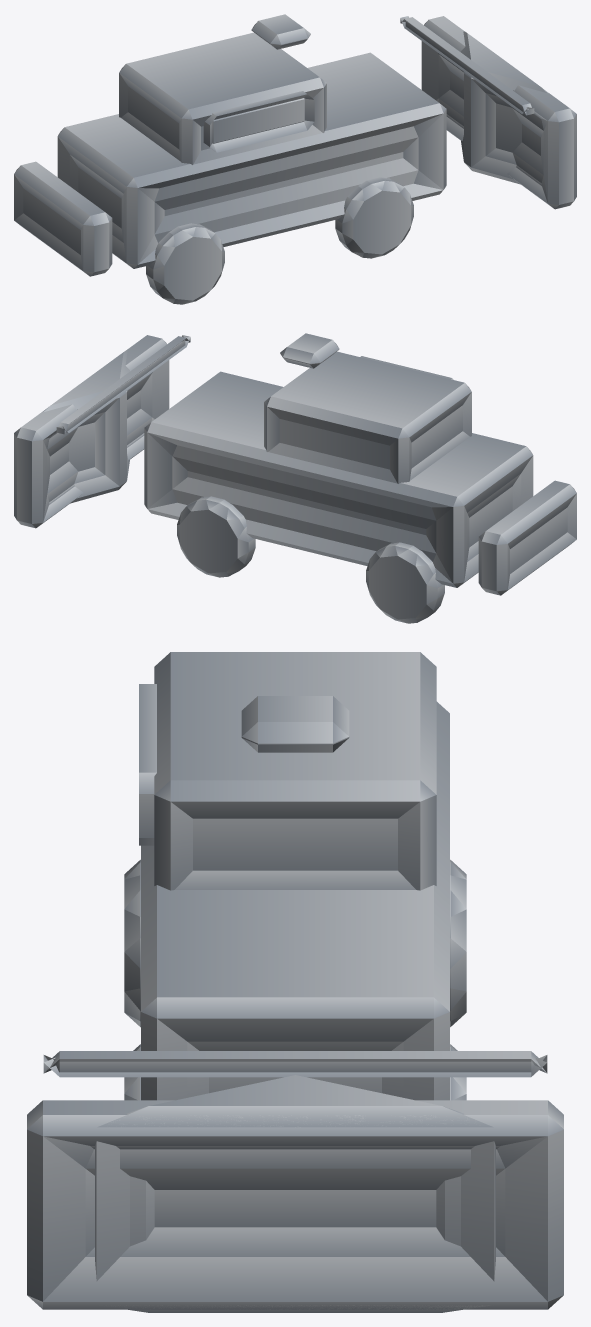
File: dt_snowplough.fbx
3 views of the same model, one above another, from view 1: azimuth 30°, elevation 25°; view 2: azimuth 150°, elevation 25°; view 3: azimuth 270°, elevation 25° (orthographic). The views are drawn at different scales.
Parts seen in each view (by area): view 1: dt_snowplough; view 2: dt_snowplough; view 3: dt_snowplough.
Boxes of the visible parts, bbox=[...] form: dt_snowplough: bbox=[14, 14, 576, 304]; dt_snowplough: bbox=[14, 333, 576, 623]; dt_snowplough: bbox=[27, 652, 563, 1312].
Size of the model in its own units: 2200 by 987 by 1100.
